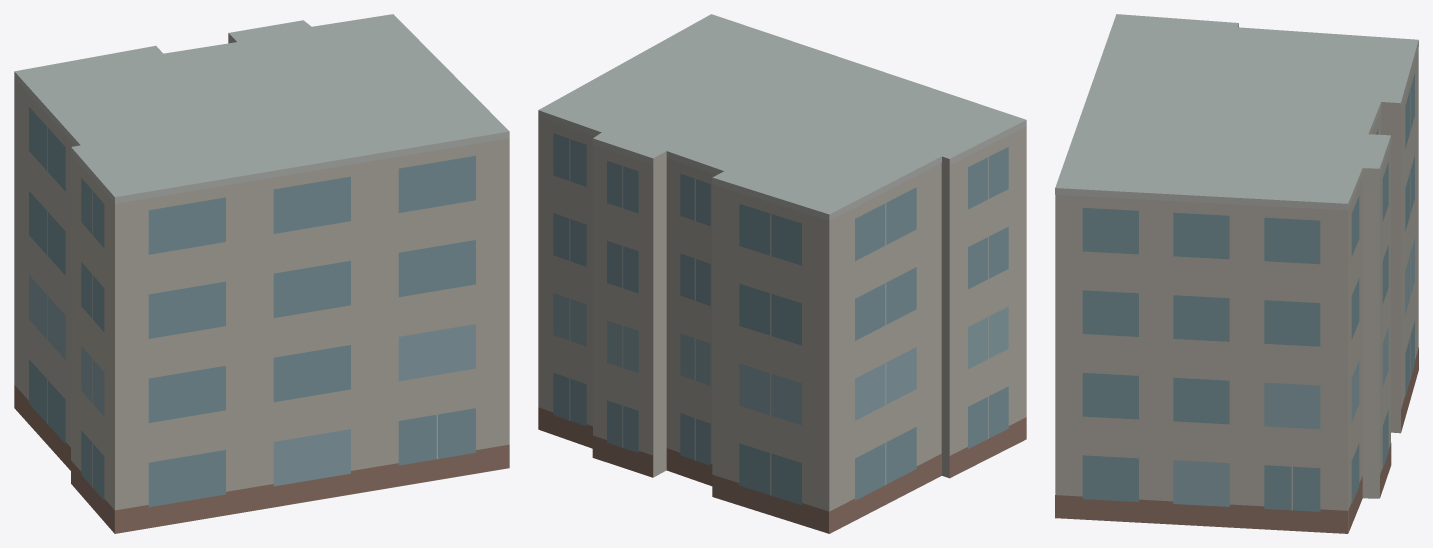
The model's file is survey-upis-32940708.glb.
3 renders of one model, left to right at view 1: azimuth 30°, elevation 25°; view 2: azimuth 150°, elevation 25°; view 3: azimuth 270°, elevation 25°, orthographic. The views are drawn at different scales.
Parts seen in each view (by area): view 1: survey-upis-32940708.tmp; view 2: survey-upis-32940708.tmp; view 3: survey-upis-32940708.tmp.
Part boxes in pixels (<box>): survey-upis-32940708.tmp: <box>14,14,509,533</box>; survey-upis-32940708.tmp: <box>538,14,1026,533</box>; survey-upis-32940708.tmp: <box>1055,14,1418,533</box>.
Bounding box in the file's own units: 15.05 × 12.2 × 12.19.
